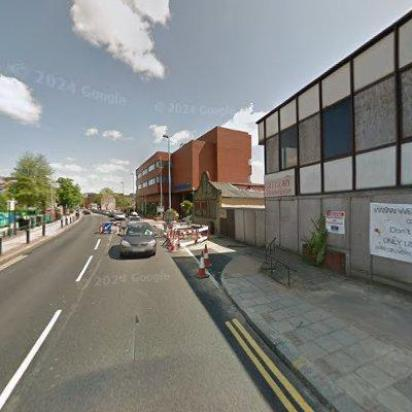moving-car: (118, 222, 158, 258), (127, 212, 143, 222)
